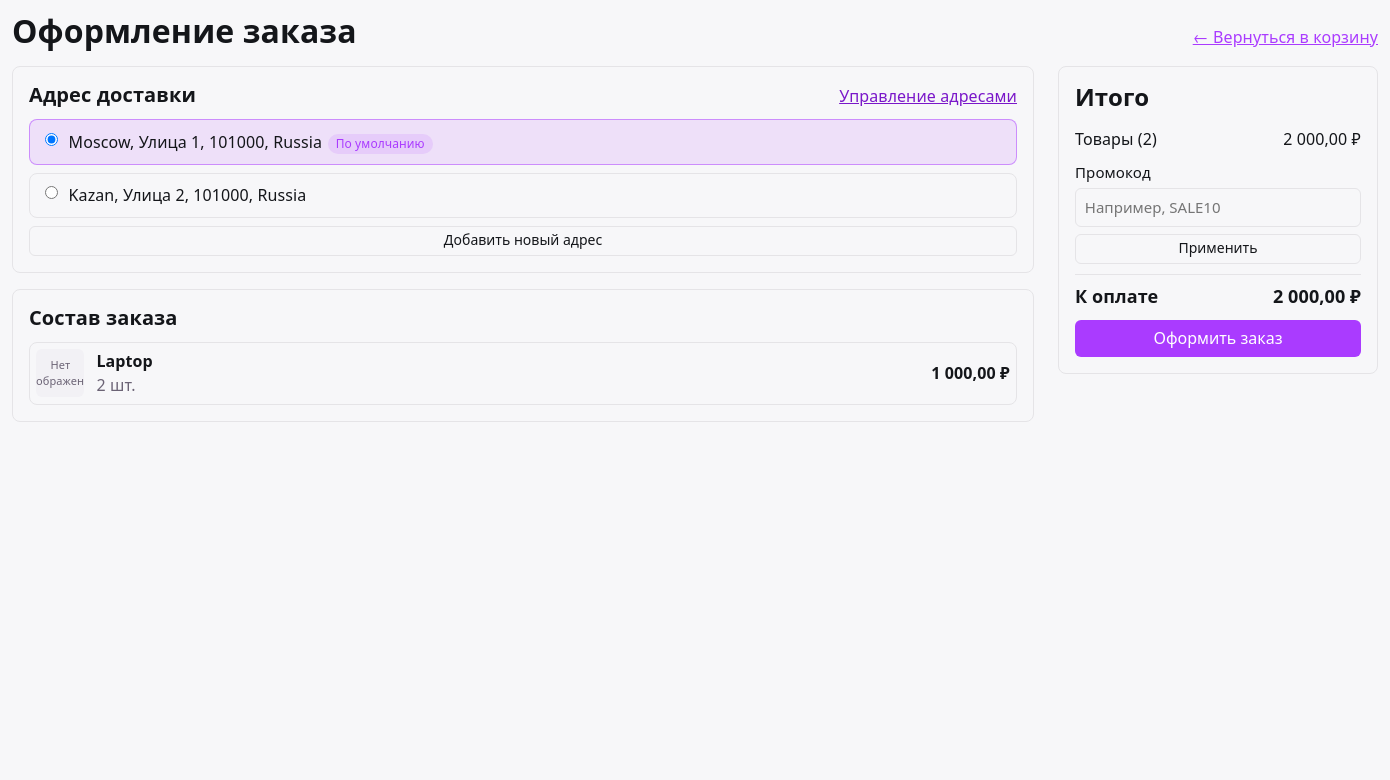
it: CheckoutPage › добавление адреса из списка и отмена формы
Click the button "Добавить новый адрес" at (523, 241), box top-left (29, 226), bottom-right (1017, 256)
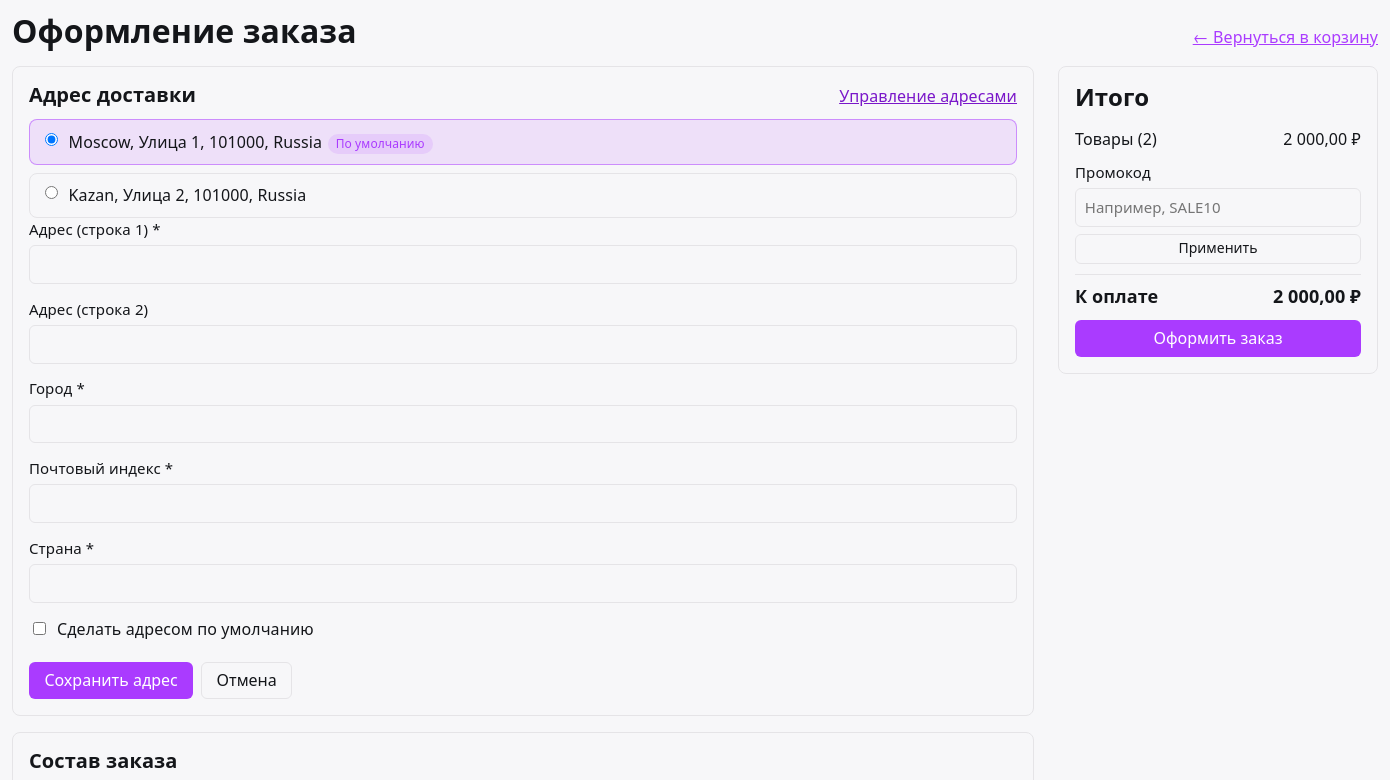
Click the button "Отмена" at (247, 681), box top-left (201, 662), bottom-right (292, 699)
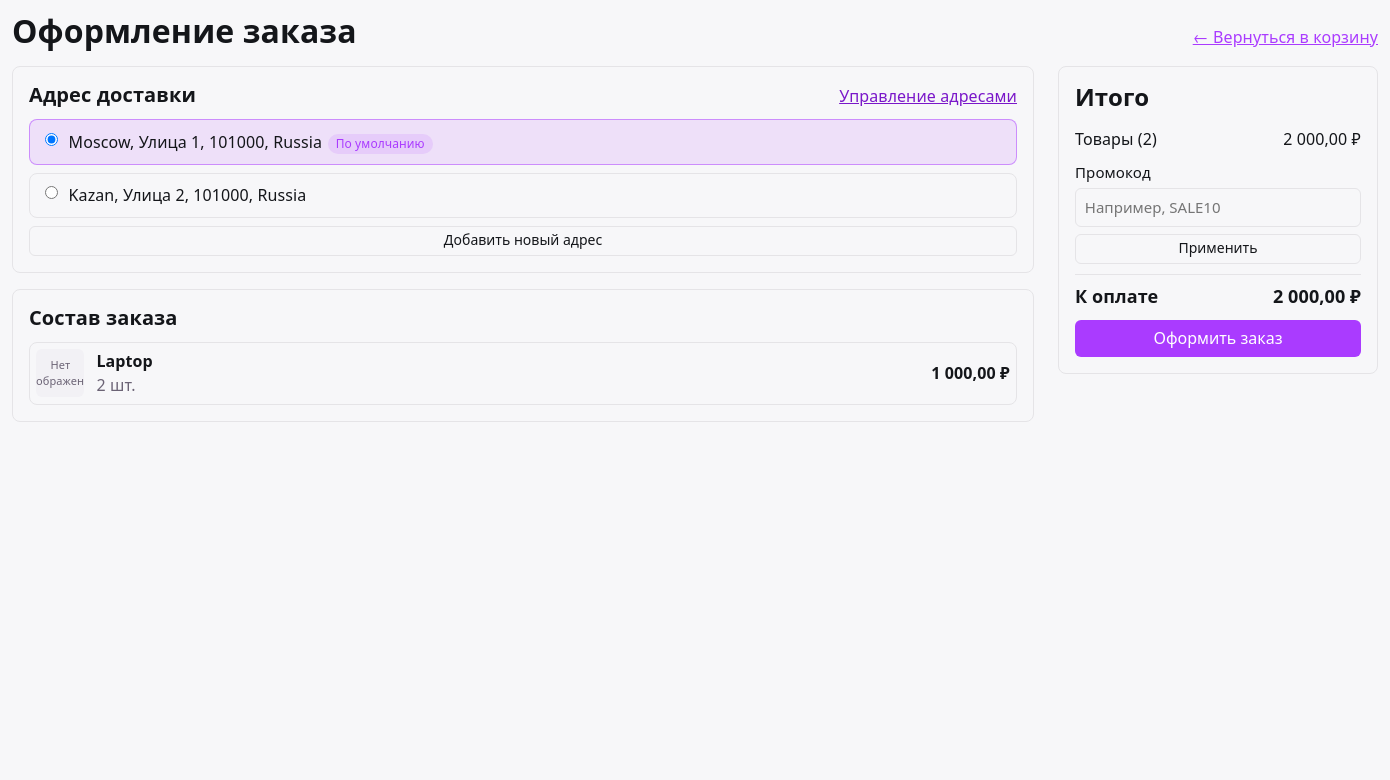
Check: the text labelled "Адрес (строка 1) *" is gone
